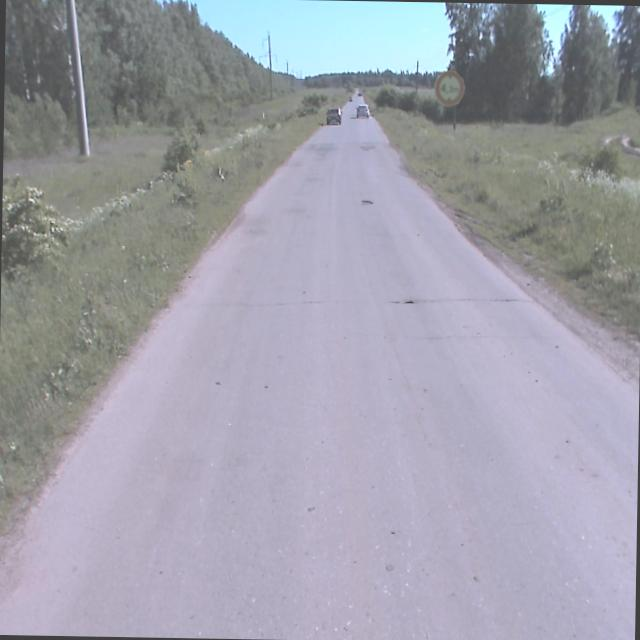road: (0, 94, 638, 640)
